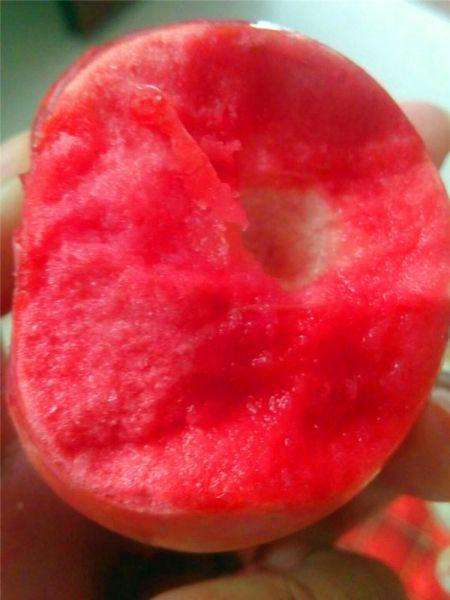apple: (8, 17, 450, 553)
